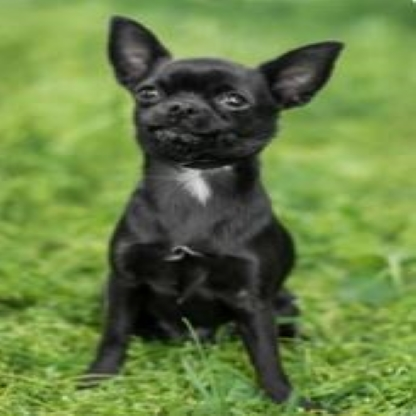chihuahua: (89, 12, 344, 409)
